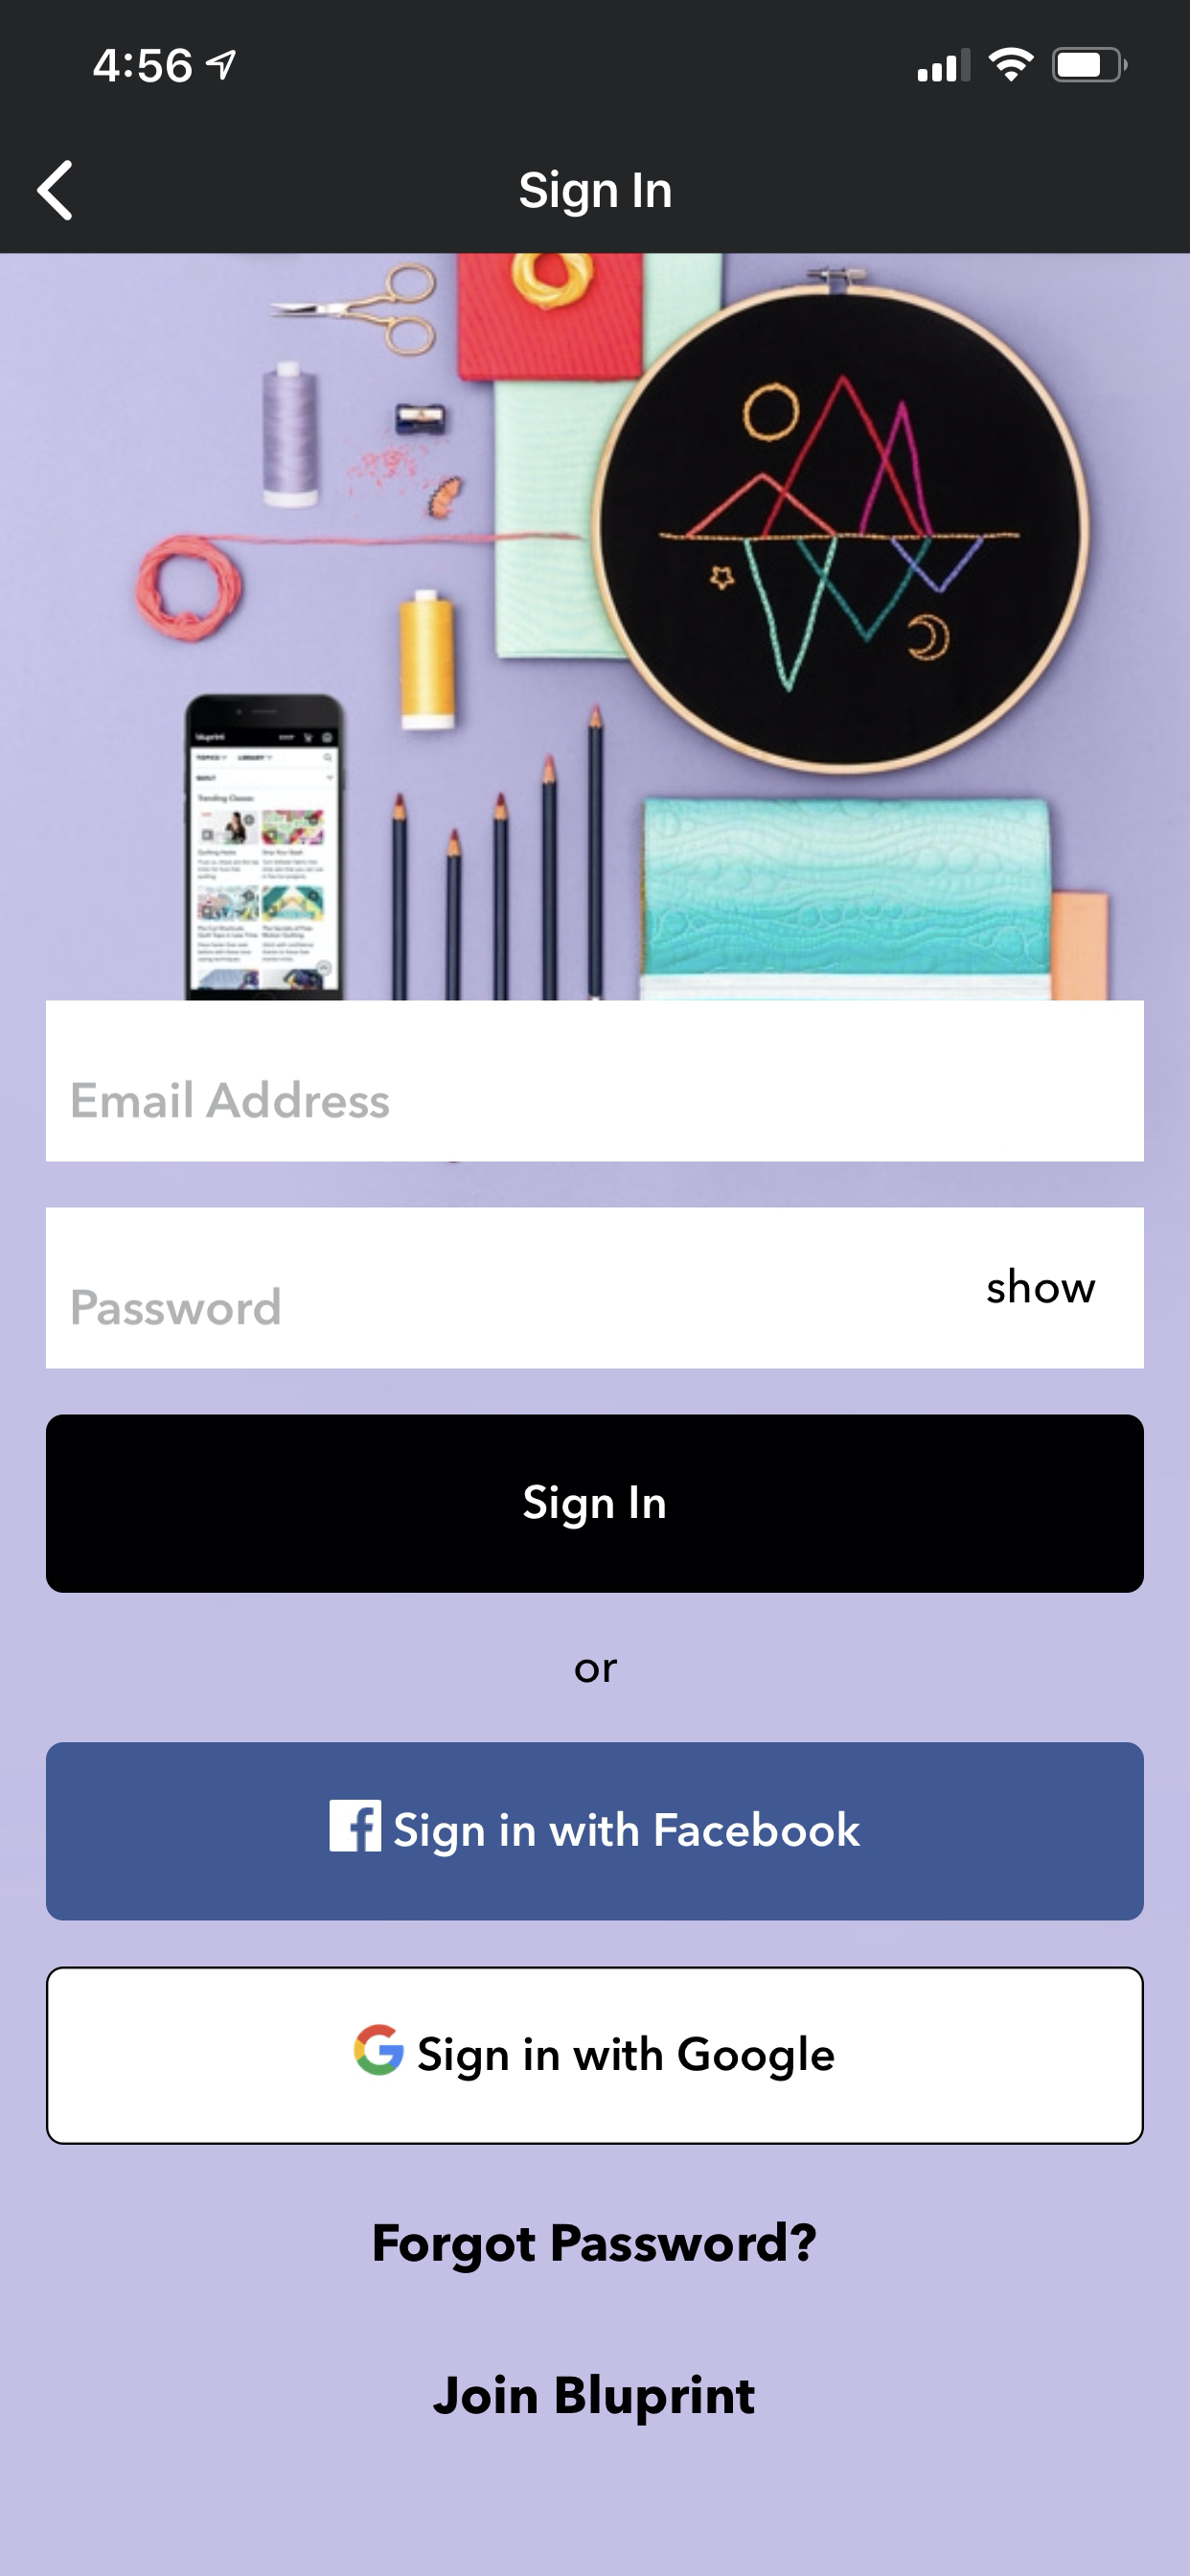BackgroundImage: (2, 255, 1190, 2576)
EditText: (46, 1207, 1144, 1368), (46, 1000, 1144, 1161)
Icon: (36, 159, 72, 222)
Text: (375, 2221, 817, 2274), (432, 2372, 754, 2425), (72, 1079, 390, 1119), (72, 1286, 279, 1326), (519, 169, 672, 218), (986, 1267, 1096, 1303), (575, 1659, 616, 1682)
TextButton: (46, 1966, 1144, 2146), (46, 1741, 1144, 1920), (46, 1414, 1144, 1594)
UpperTaskBar: (95, 48, 1128, 84)
